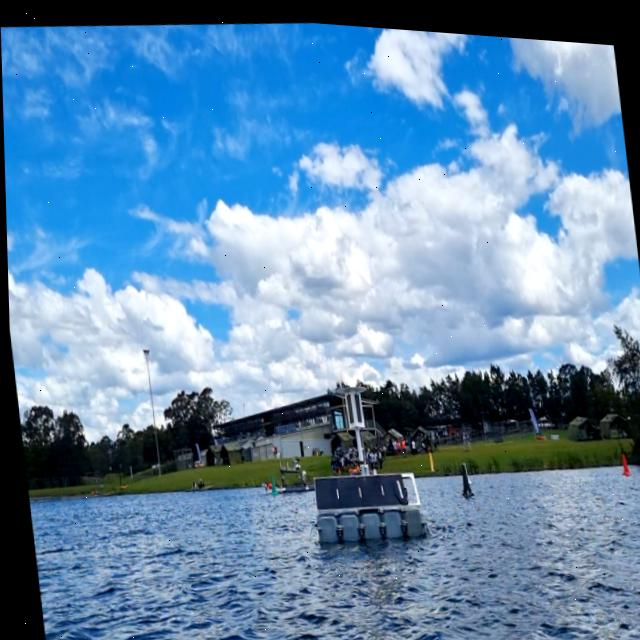led: (342, 386, 361, 421), (350, 385, 360, 419), (343, 388, 352, 419)
